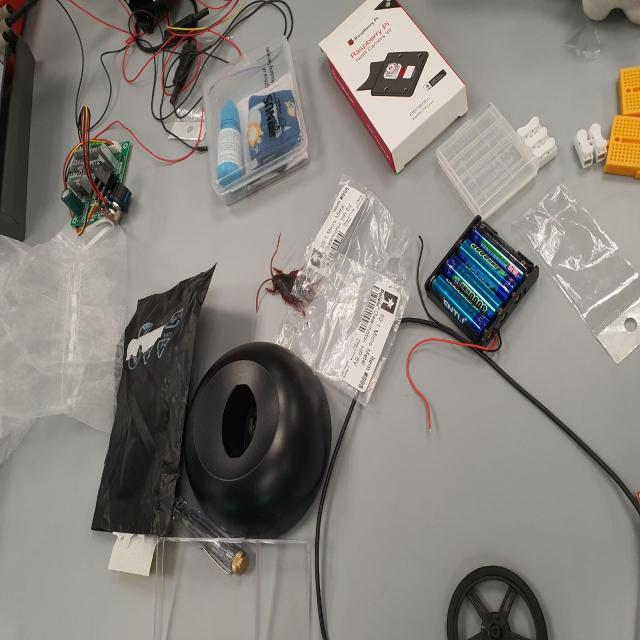Cockroach: (254, 235, 320, 324)
